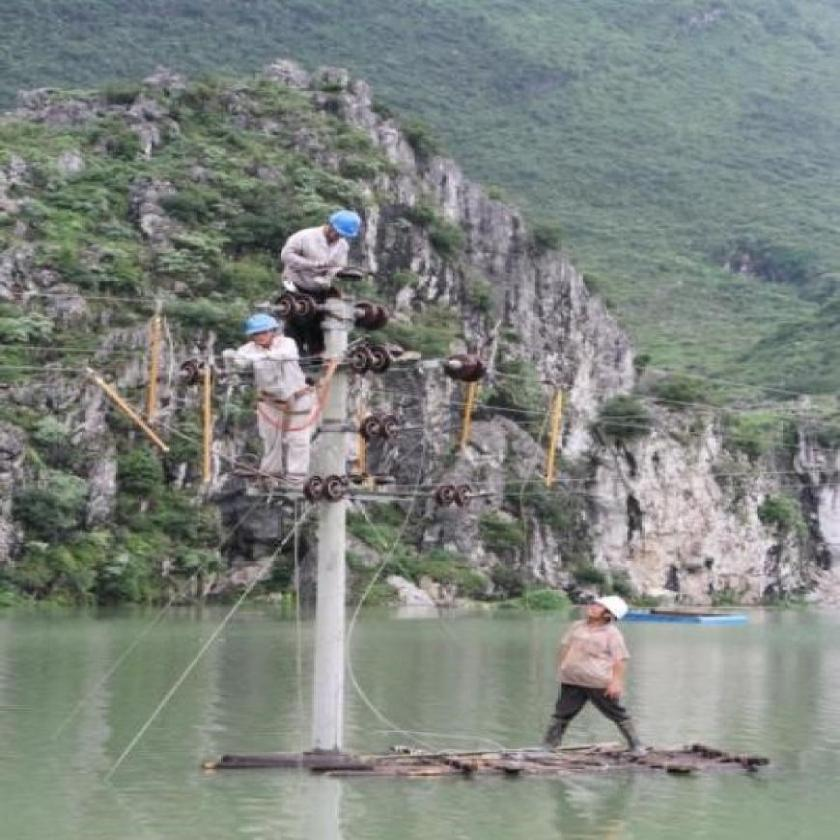Con_casco: (582, 588, 628, 632), (245, 311, 276, 353), (326, 211, 364, 245)
